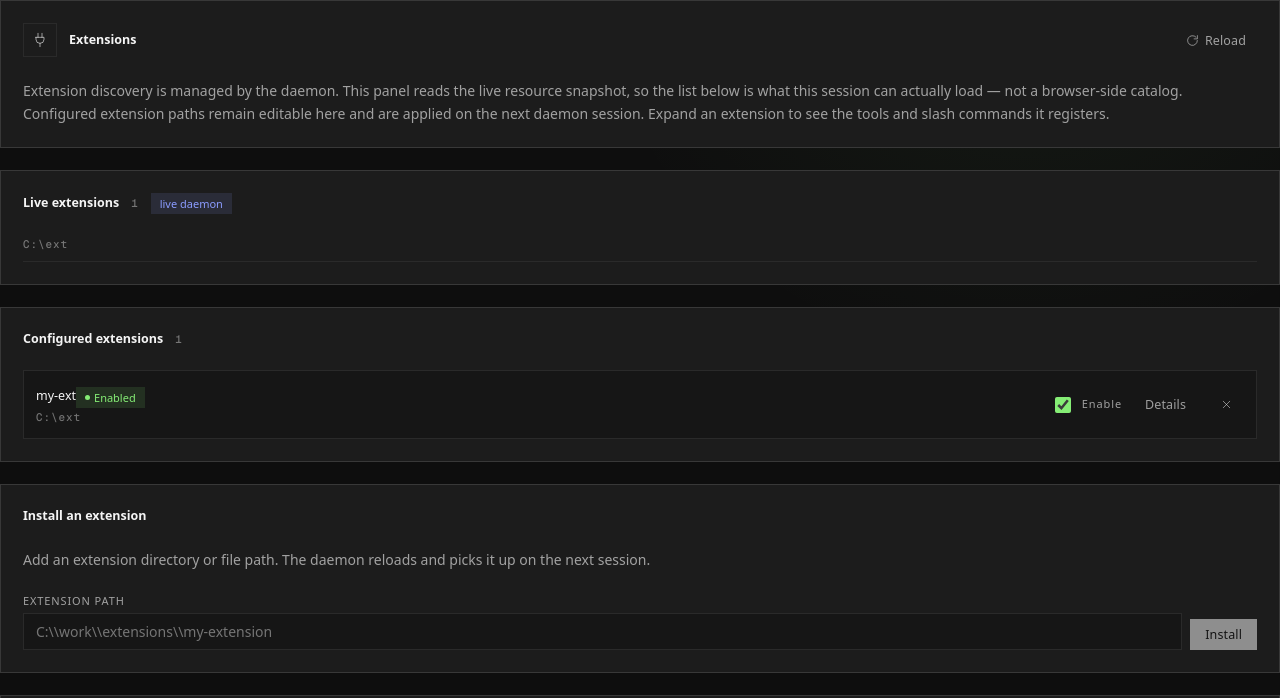
Test: ExtensionsPanel › expands an extension to reveal its tools and slash commands
The image size is (1280, 698).
Expected: the text "my-ext" is shown, [36,387,76,404]
Click the button with aria-label "toggle details for my-ext" at {"x": 1166, "y": 405}, box [1134,392,1197,417]
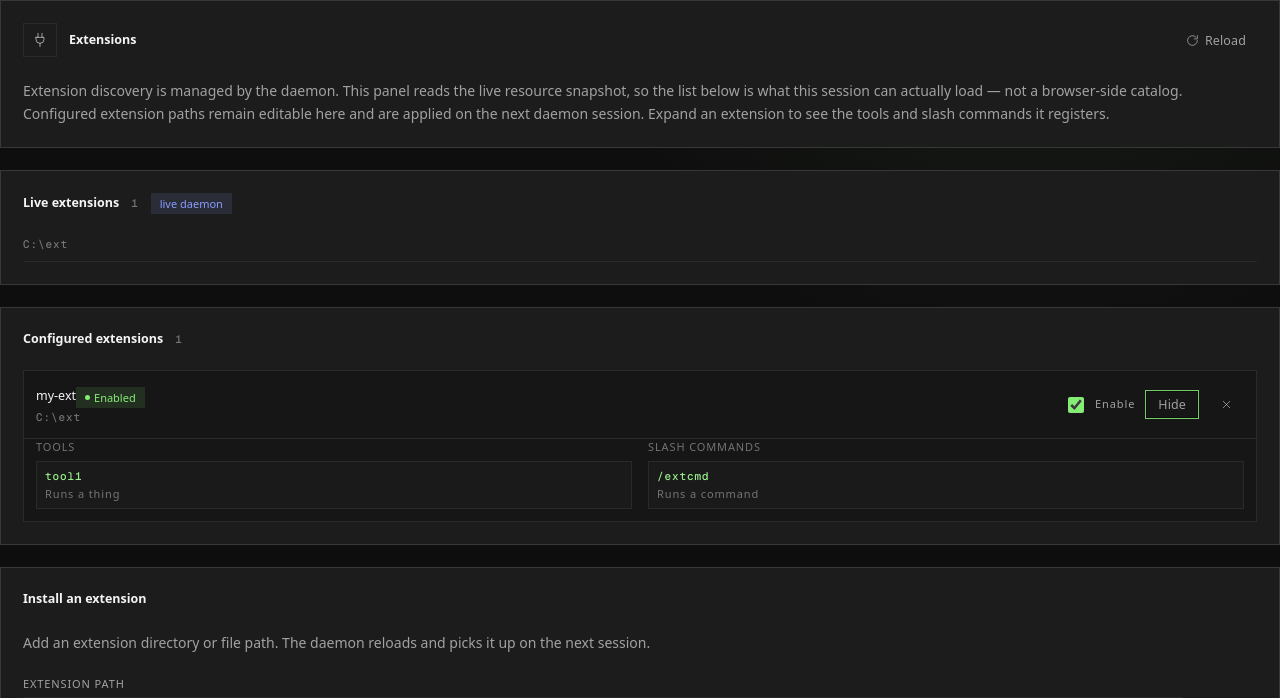
Result: the text "tool1" is shown at [45,469,82,483]
Result: the text "/extcmd" is shown at [657,469,709,483]
Result: the text "Runs a thing" is shown at [45,486,120,501]
